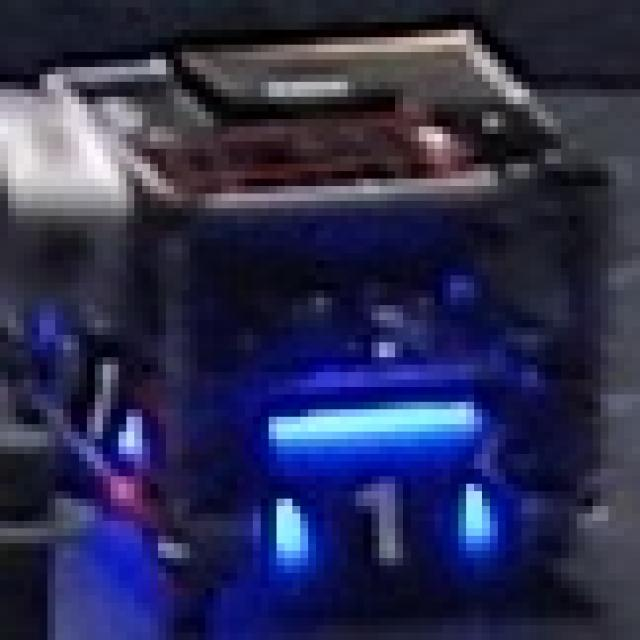B1: (269, 469, 490, 565)
